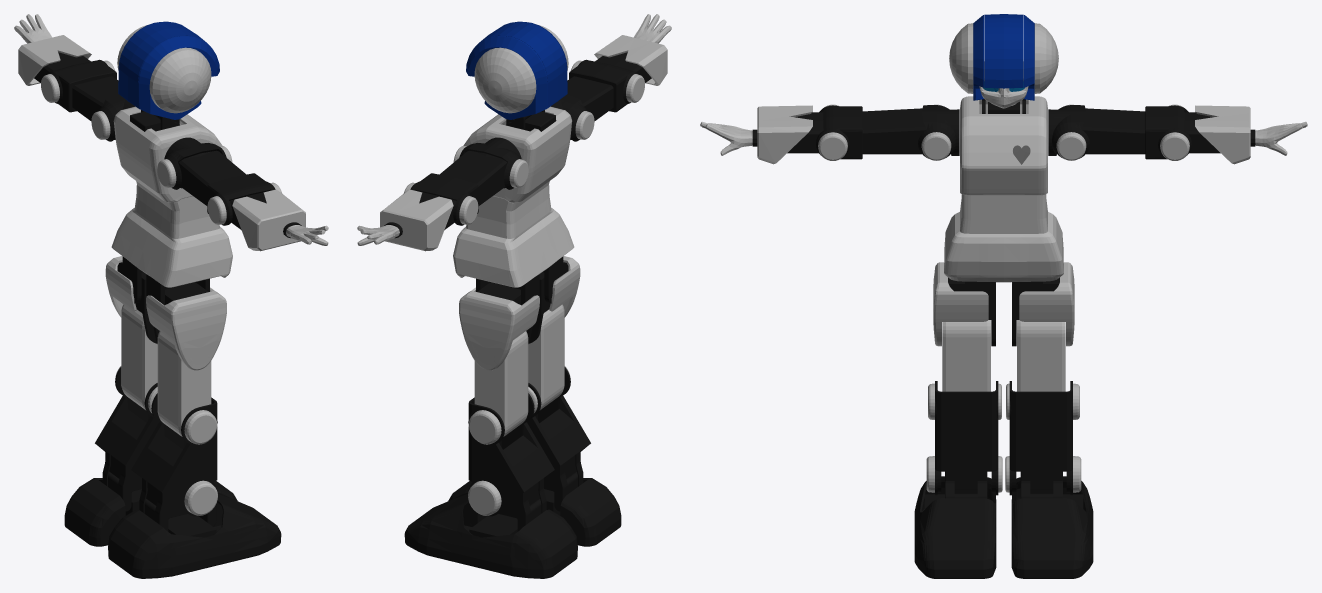
The model's file is premaidai.glb.
3 renders of one model, left to right at view 1: azimuth 30°, elevation 25°; view 2: azimuth 150°, elevation 25°; view 3: azimuth 270°, elevation 25°, orthographic. The views are drawn at different scales.
Visible parts, largest first — view 1: body, r_foot, head, r_lleg, r_uleg_root, r_uleg, l_foot, r_larm, l_lleg, l_uleg, l_larm, l_larm_joint (+12 smaller); view 2: body, l_foot, head, l_lleg, l_uleg_root, l_uleg, r_foot, l_larm, r_lleg, r_uleg, r_larm, r_larm_joint (+12 smaller); view 3: body, head, r_foot, l_foot, r_lleg, l_lleg, r_uleg, l_uleg, r_larm, l_larm, r_uarm, l_uarm (+10 smaller).
Part boxes in pixels (bbox=[...]): body: bbox=[111, 106, 232, 287]; r_foot: bbox=[108, 494, 281, 578]; head: bbox=[117, 21, 219, 119]; r_lleg: bbox=[131, 393, 217, 516]; r_uleg_root: bbox=[146, 282, 226, 370]; r_uleg: bbox=[157, 331, 211, 436]; l_foot: bbox=[64, 478, 237, 546]; r_larm: bbox=[229, 189, 305, 251]; l_lleg: bbox=[95, 366, 158, 478]; l_uleg: bbox=[121, 304, 157, 409]; l_larm: bbox=[18, 35, 91, 85]; l_larm_joint: bbox=[41, 59, 116, 112]; body: bbox=[453, 106, 574, 287]; l_foot: bbox=[404, 494, 577, 578]; head: bbox=[466, 21, 568, 119]; l_lleg: bbox=[468, 393, 554, 516]; l_uleg_root: bbox=[459, 282, 539, 370]; l_uleg: bbox=[474, 331, 528, 436]; r_foot: bbox=[448, 478, 621, 546]; l_larm: bbox=[380, 189, 456, 251]; r_lleg: bbox=[527, 366, 590, 478]; r_uleg: bbox=[528, 304, 564, 409]; r_larm: bbox=[594, 35, 667, 85]; r_larm_joint: bbox=[569, 59, 644, 112]; body: bbox=[944, 96, 1063, 282]; head: bbox=[949, 14, 1058, 108]; r_foot: bbox=[914, 476, 996, 578]; l_foot: bbox=[1011, 476, 1093, 578]; r_lleg: bbox=[926, 381, 1002, 495]; l_lleg: bbox=[1005, 381, 1081, 495]; r_uleg: bbox=[942, 320, 990, 391]; l_uleg: bbox=[1017, 320, 1065, 391]; r_larm: bbox=[757, 105, 823, 164]; l_larm: bbox=[1184, 105, 1250, 164]; r_uarm: bbox=[862, 108, 926, 154]; l_uarm: bbox=[1081, 108, 1145, 154].
Size of the model in its own units: 0.1424 by 0.4664 by 0.4934.
